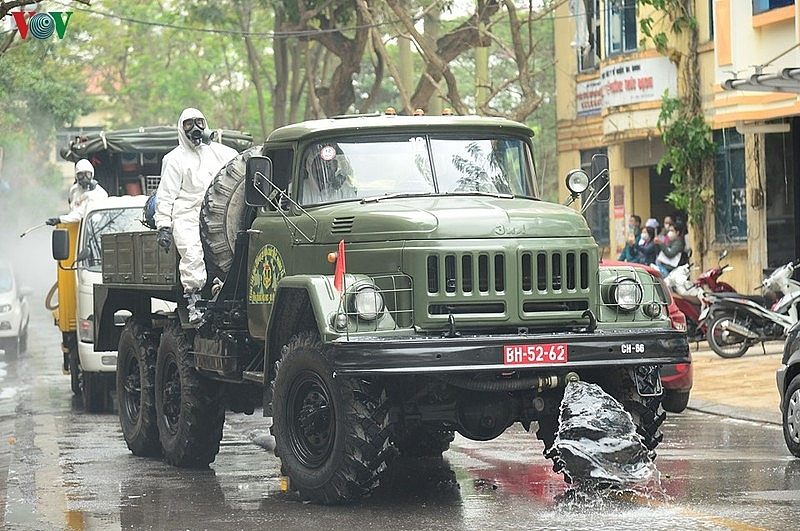plate: (493, 340, 575, 367)
